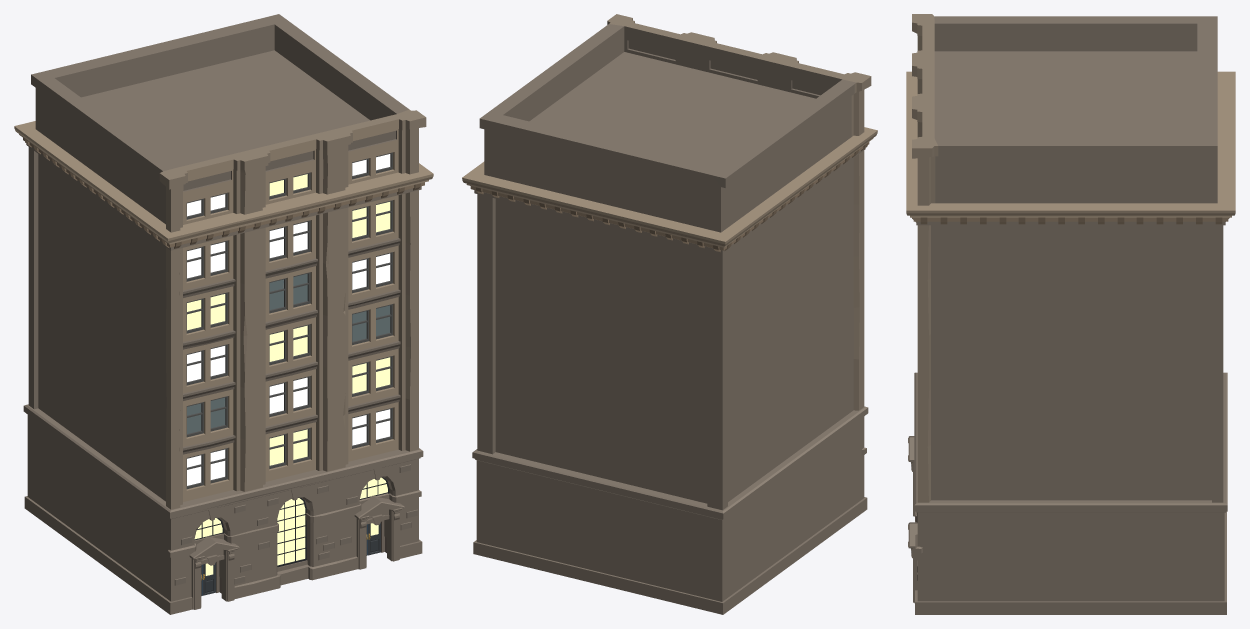
Rendered from SM_Bld_OfficeOld_Large_02.fbx.
3 views of the same model, side by side, from view 1: azimuth 30°, elevation 25°; view 2: azimuth 150°, elevation 25°; view 3: azimuth 270°, elevation 25° (orthographic). The views are drawn at different scales.
Visible parts, largest first — view 1: SM_Bld_OfficeOld_Large_02; view 2: SM_Bld_OfficeOld_Large_02; view 3: SM_Bld_OfficeOld_Large_02.
Part boxes in pixels (<box>): SM_Bld_OfficeOld_Large_02: <box>14,14,433,614</box>; SM_Bld_OfficeOld_Large_02: <box>462,14,877,614</box>; SM_Bld_OfficeOld_Large_02: <box>906,14,1235,614</box>.
Size of the model in its own units: 1609 by 2525 by 1612.
